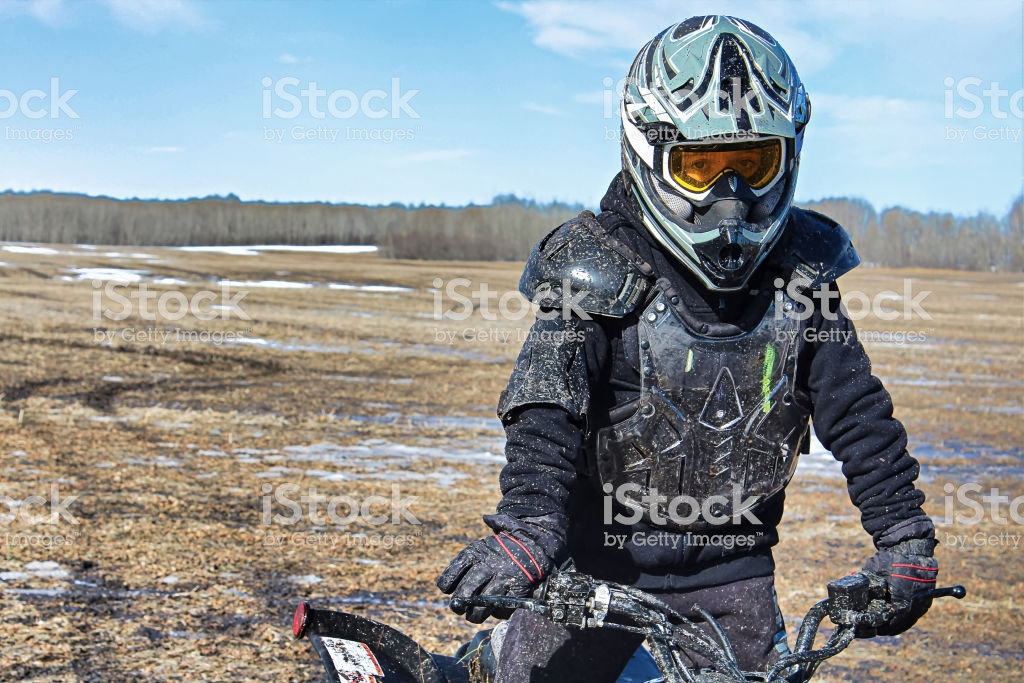helmet: (616, 25, 816, 288)
